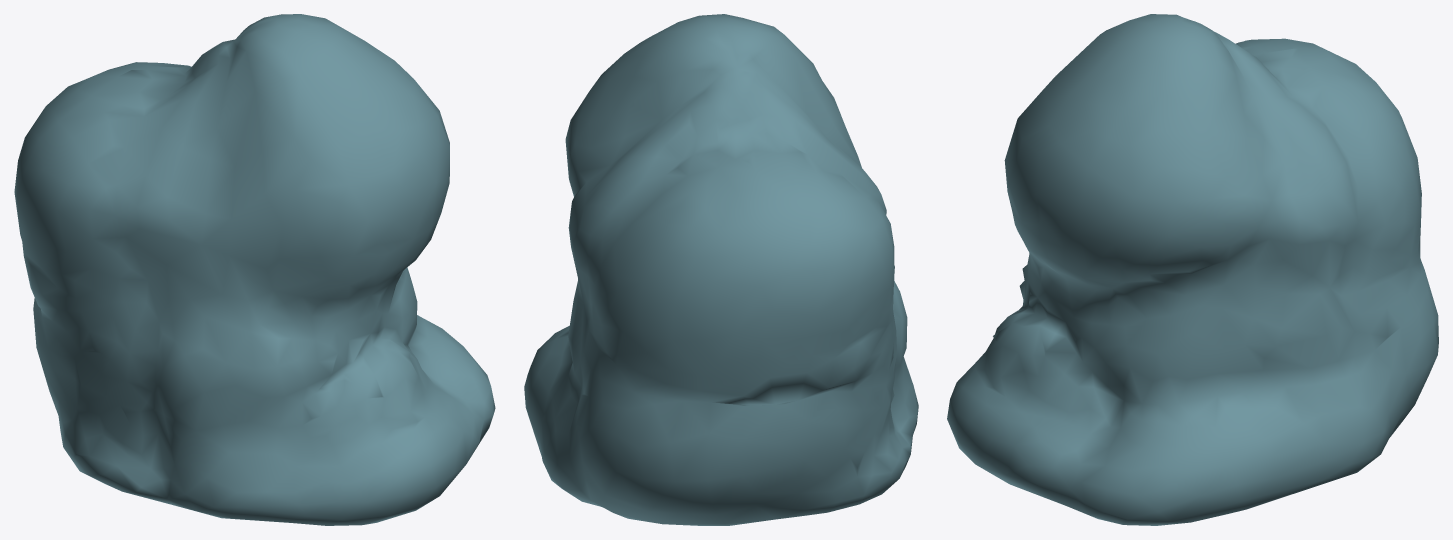
File: env_primalcave_rocks_baseblob01.fbx
3 renders of one model, left to right at view 1: azimuth 30°, elevation 25°; view 2: azimuth 150°, elevation 25°; view 3: azimuth 270°, elevation 25°, orthographic.
Parts seen in each view (by area): view 1: env_excavation_underground_sticky_blockout_baseblob01; view 2: env_excavation_underground_sticky_blockout_baseblob01; view 3: env_excavation_underground_sticky_blockout_baseblob01.
Part boxes in pixels (box(x1,y1,x2,y2)): env_excavation_underground_sticky_blockout_baseblob01: box(14, 14, 495, 525); env_excavation_underground_sticky_blockout_baseblob01: box(524, 14, 918, 525); env_excavation_underground_sticky_blockout_baseblob01: box(947, 14, 1438, 525).
Size of the model in its own units: 12.31 by 12.81 by 13.37.
